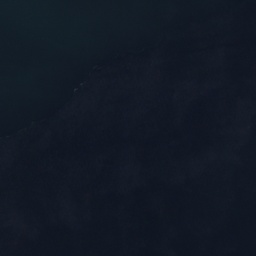Marine Debris: (72, 64, 104, 98)
